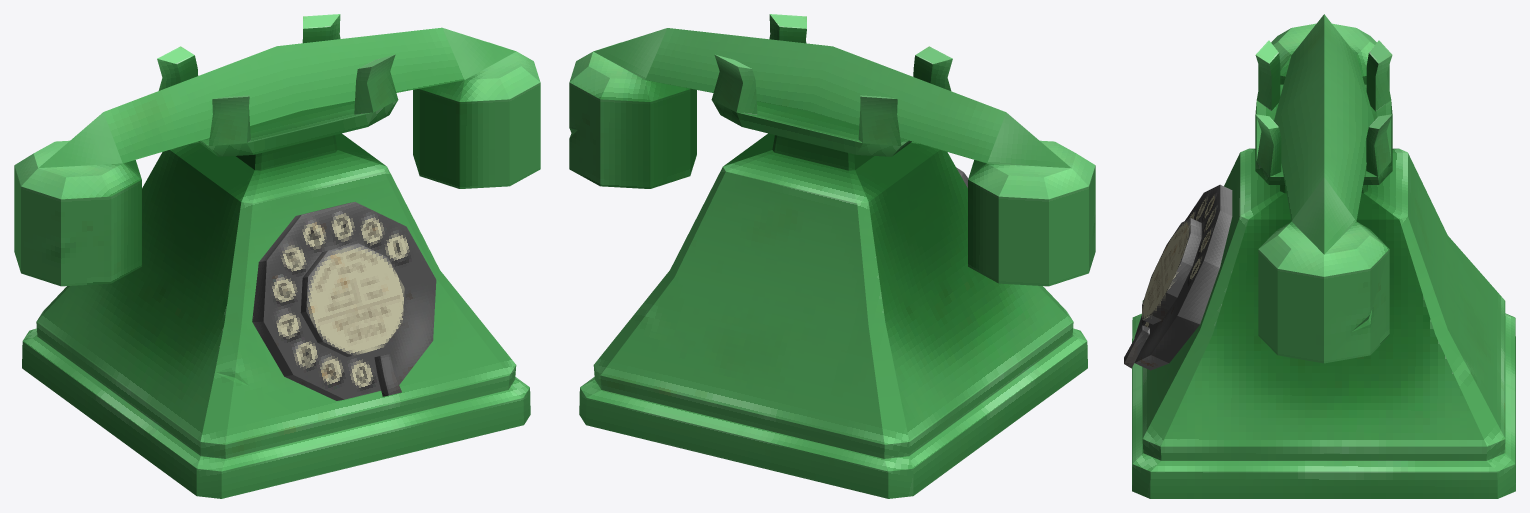
File: low_poly_vintage_telephone.glb
The picture shows the model from 3 angles, left to right: view 1: azimuth 30°, elevation 25°; view 2: azimuth 150°, elevation 25°; view 3: azimuth 270°, elevation 25°; orthographic projection.
Parts seen in each view (by area): view 1: telephone; view 2: telephone; view 3: telephone.
Boxes of the visible parts, <box> form: telephone: <box>14,14,540,498</box>; telephone: <box>569,14,1095,498</box>; telephone: <box>1124,14,1515,498</box>.
Size of the model in its own units: 0.0716 by 0.046 by 0.0476.
Materials: 1 (1 with a texture image).
